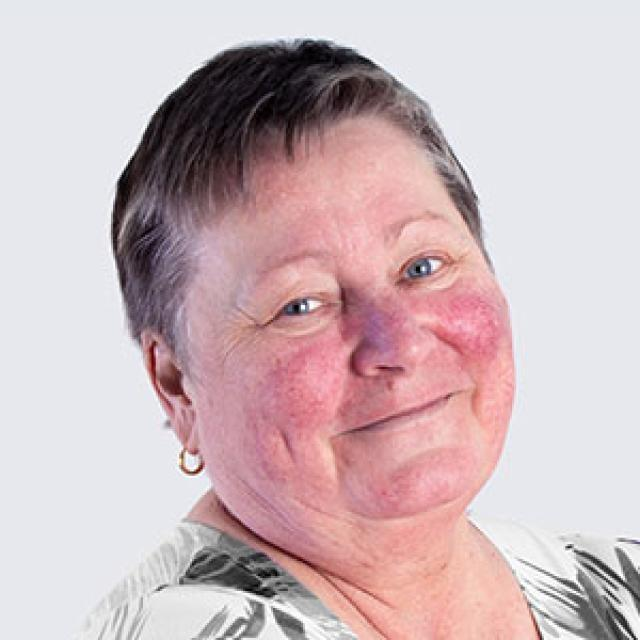Rosacea: (240, 330, 346, 480), (422, 290, 511, 375)
